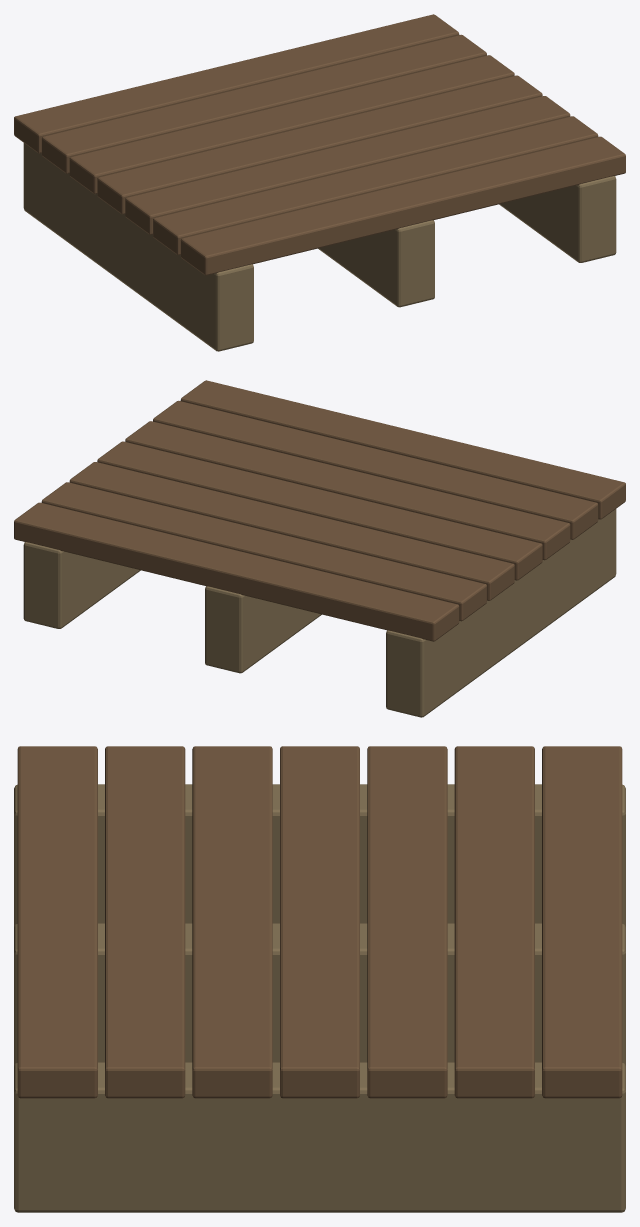
Rendered from pallet.glb.
3 renders of one model, top to bottom at view 1: azimuth 30°, elevation 25°; view 2: azimuth 150°, elevation 25°; view 3: azimuth 270°, elevation 25°, orthographic. The views are drawn at different scales.
Visible parts, largest first — view 1: pallet; view 2: pallet; view 3: pallet.
Part boxes in pixels (x1,y1,x2,y2): pallet: (14,14,625,351); pallet: (14,380,625,717); pallet: (14,746,625,1212).
Size of the model in its own units: 1 by 0.2225 by 0.8.
